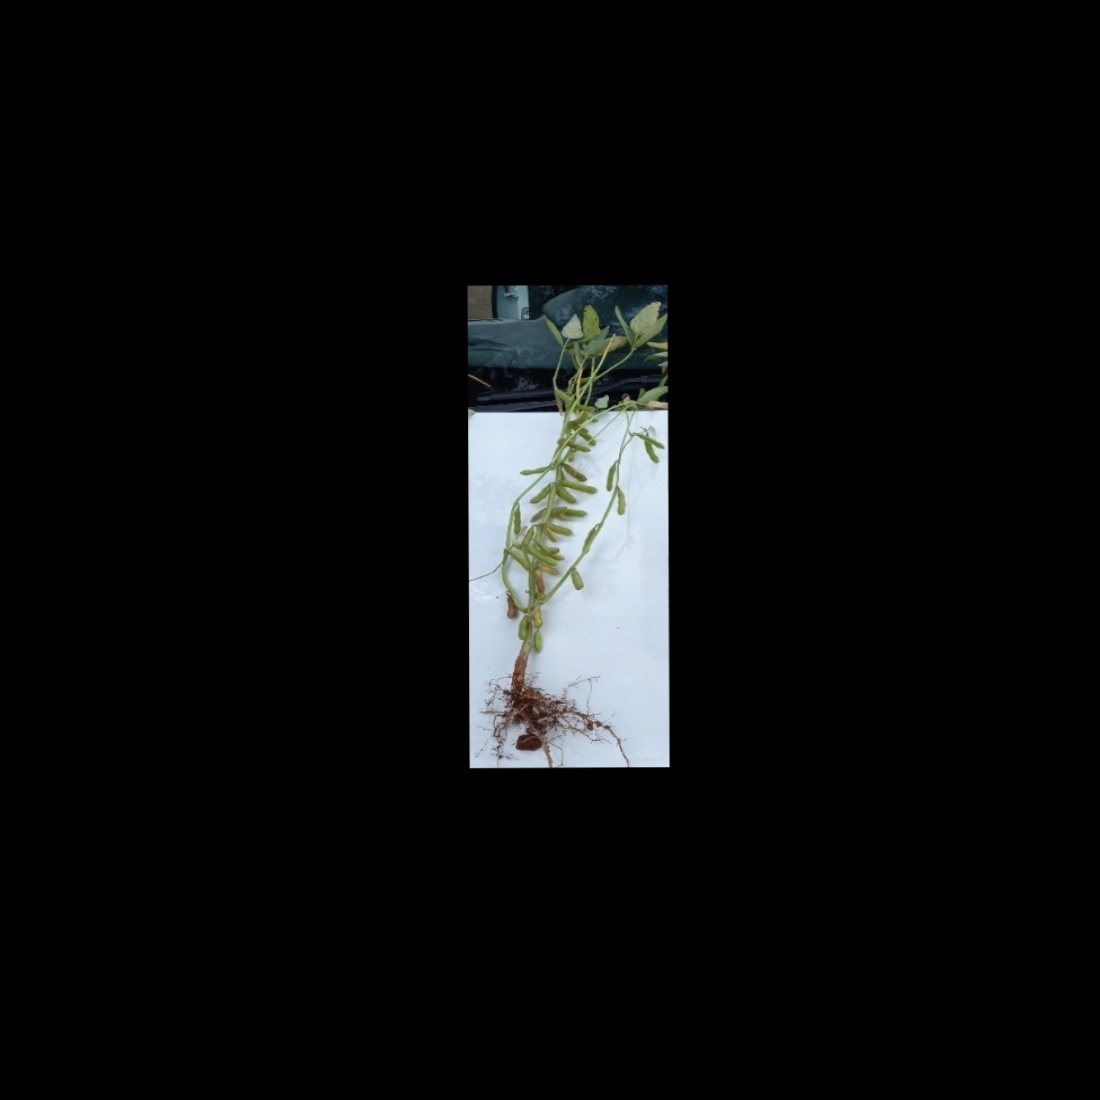pod: (525, 546, 560, 569), (526, 482, 553, 509), (568, 566, 591, 593), (561, 460, 589, 483), (613, 484, 631, 518), (557, 480, 599, 494), (503, 590, 519, 622), (546, 520, 575, 537), (511, 504, 526, 536), (516, 463, 548, 478), (603, 461, 616, 492)
soy: (479, 303, 661, 750)
